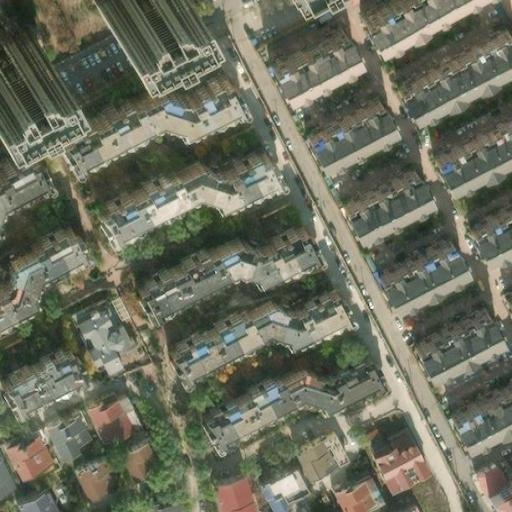building: (49, 54, 230, 150), (190, 343, 372, 433), (87, 136, 268, 226), (159, 278, 340, 368), (128, 216, 310, 305), (391, 22, 512, 108), (428, 101, 512, 178), (0, 213, 70, 298), (264, 22, 352, 89), (377, 231, 463, 293), (339, 162, 425, 224), (299, 91, 385, 153), (412, 301, 497, 363), (64, 303, 126, 372), (30, 400, 92, 462), (71, 380, 132, 441), (367, 426, 421, 489), (464, 190, 512, 248), (0, 422, 49, 477), (0, 128, 55, 176), (288, 427, 340, 475), (63, 453, 112, 500), (251, 463, 302, 508), (201, 470, 252, 512), (324, 471, 376, 512), (111, 433, 155, 475), (7, 482, 57, 512), (466, 457, 498, 489), (384, 497, 424, 512), (135, 498, 175, 512), (91, 500, 119, 512), (511, 372, 512, 375)
